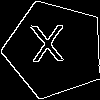X: (29, 24, 66, 72)
